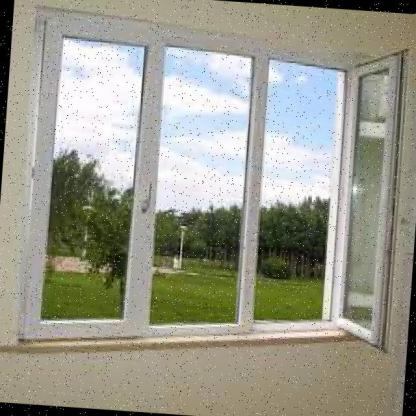Window: (0, 11, 411, 381)
